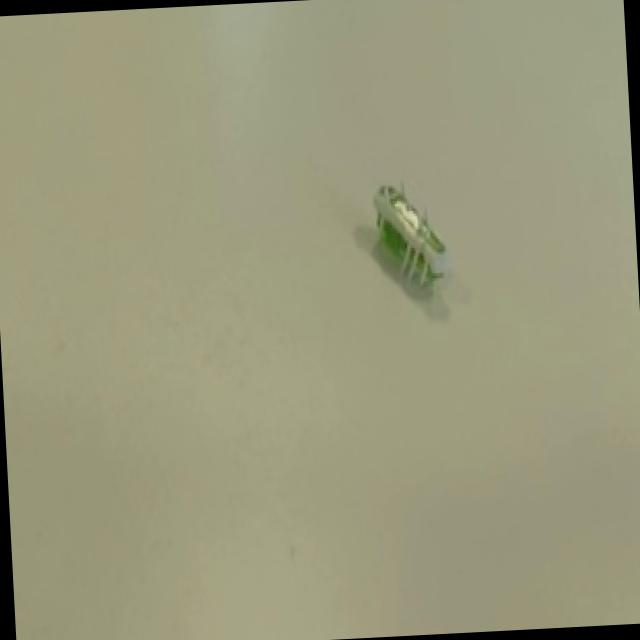4_NanoBug_Blanco: (336, 165, 494, 316)
